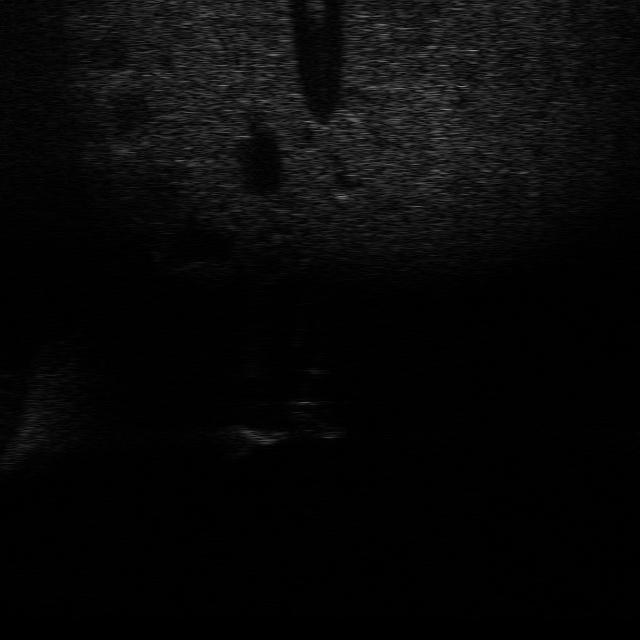ball: (286, 366, 332, 391)
square cage: (219, 420, 295, 459)
tyre: (282, 396, 352, 444)
